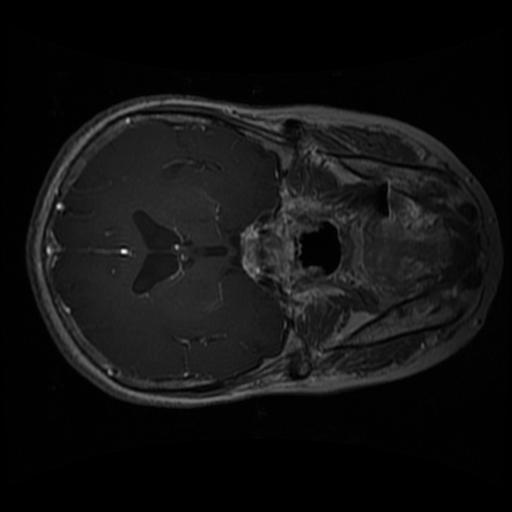glioma: (158, 154, 222, 183)
